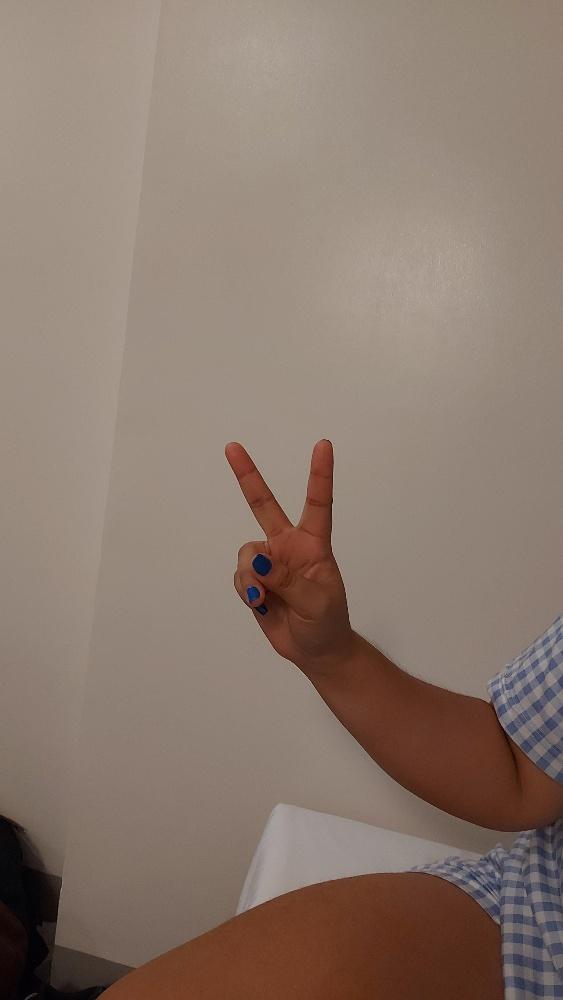v: (219, 434, 353, 664)
